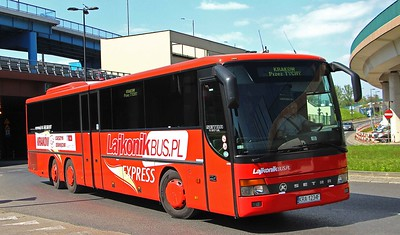bus: (25, 51, 350, 220)
